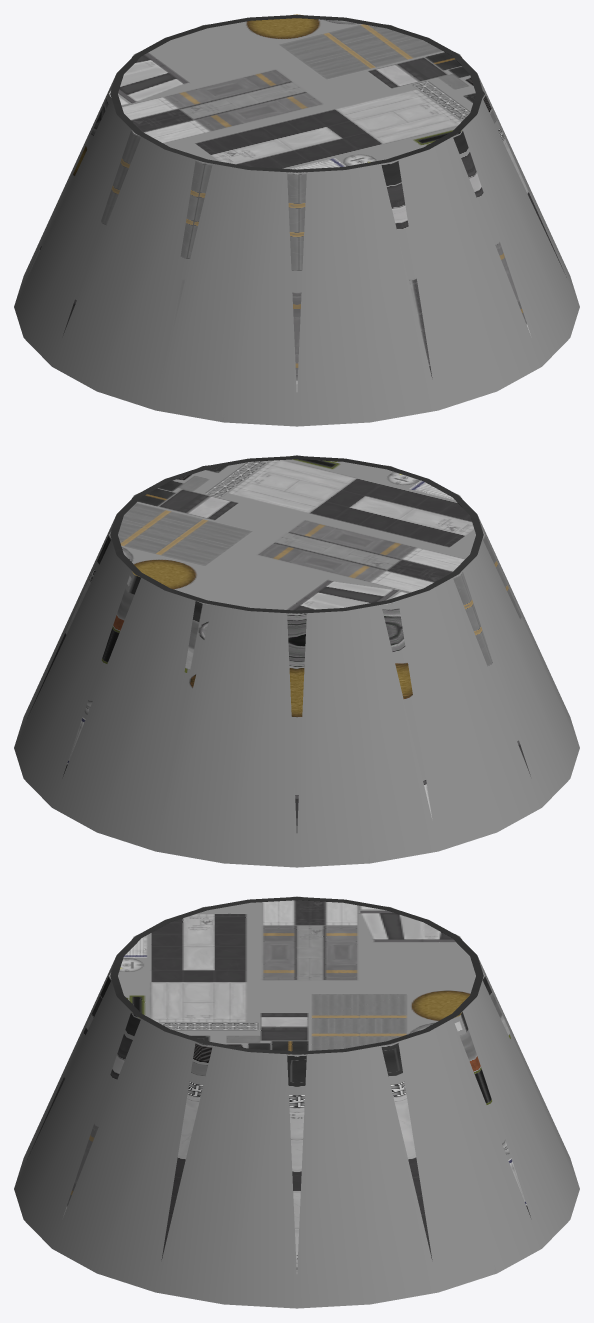
Rendered from Adapter.FBX.
3 views of the same model, one above another, from view 1: azimuth 30°, elevation 25°; view 2: azimuth 150°, elevation 25°; view 3: azimuth 270°, elevation 25° (orthographic).
Visible parts, largest first — view 1: MainBody, Cylinder049; view 2: MainBody, Cylinder049; view 3: MainBody, Cylinder049.
Part boxes in pixels (x1,y1,x2,y2): MainBody: (14, 15, 579, 426); Cylinder049: (27, 14, 566, 391); MainBody: (14, 456, 579, 867); Cylinder049: (27, 455, 566, 832); MainBody: (14, 897, 579, 1308); Cylinder049: (27, 896, 566, 1273).
Size of the model in its own units: 1.87 by 0.7795 by 1.87.
